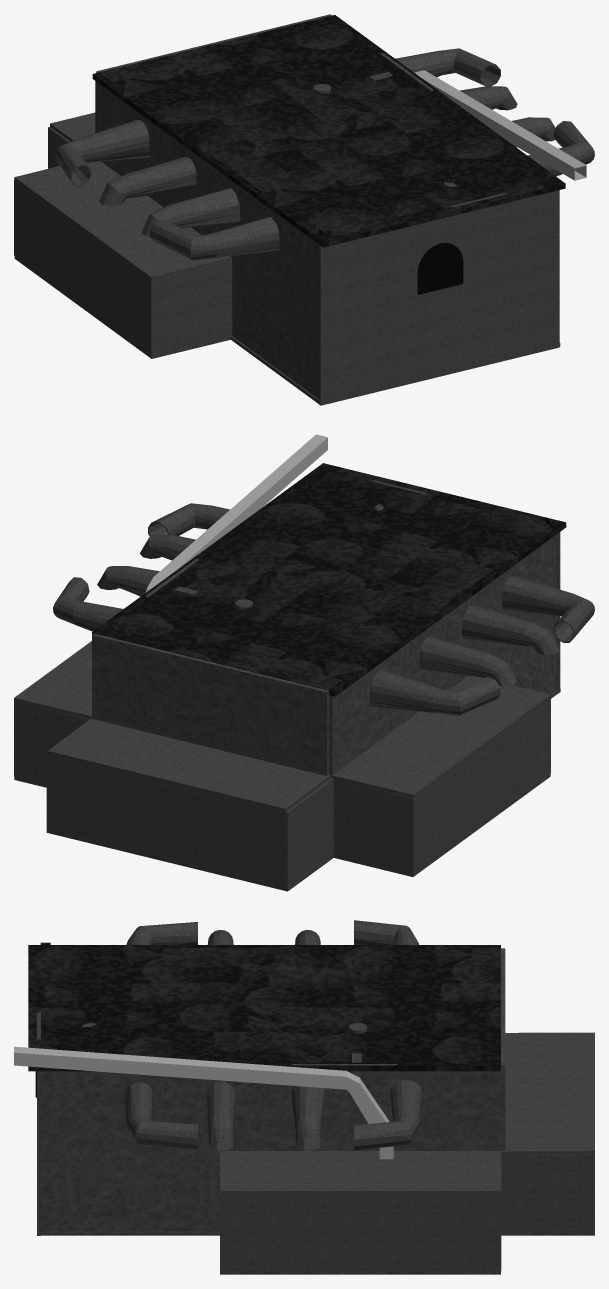
The model's file is Hall of the Mountain King.glb.
The picture shows the model from 3 angles, top to bottom: view 1: azimuth 30°, elevation 25°; view 2: azimuth 150°, elevation 25°; view 3: azimuth 270°, elevation 25°; orthographic projection. The views are drawn at different scales.
Parts seen in each view (by area): view 1: Roof, Ext Wall, Gobby Tunnels, Ext Wall.001, Ext Walls.001, Roofs, OA Duct, ToIsland.001, Floor, Ext Wall.003; view 2: Roof, Roofs, Ext Walls.002, Ext Wall.003, Gobby Tunnels, Ext Walls.001, Ext Wall.001, OA Duct, Ext Walls, Floor; view 3: Roof, Ext Wall.002, Roofs, Ext Walls, Gobby Tunnels, OA Duct, Ext Walls.002, Floor, Ext Wall.003, Ext Wall.
Part boxes in pixels (x1,y1,x2,y2): Roof: (92, 15, 565, 247); Ext Wall: (319, 190, 559, 405); Gobby Tunnels: (55, 48, 594, 260); Ext Wall.001: (95, 81, 318, 399); Ext Walls.001: (14, 180, 232, 355); Roofs: (14, 112, 231, 280); OA Duct: (414, 70, 586, 180); ToIsland.001: (417, 243, 463, 294); Floor: (14, 256, 560, 404); Ext Wall.003: (96, 14, 331, 72); Roof: (92, 463, 566, 696); Roofs: (14, 641, 551, 812); Ext Walls.002: (46, 753, 333, 887); Ext Wall.003: (92, 633, 329, 775); Gobby Tunnels: (53, 503, 594, 715); Ext Walls.001: (333, 698, 550, 873); Ext Wall.001: (329, 534, 557, 778); OA Duct: (145, 434, 327, 592); Ext Walls: (14, 701, 89, 784); Floor: (14, 688, 560, 891); Roof: (28, 945, 500, 1071); Ext Wall.002: (41, 1064, 489, 1231); Roofs: (219, 1032, 594, 1194); Ext Walls: (220, 1155, 501, 1271); Gobby Tunnels: (124, 920, 422, 1150); OA Duct: (14, 1046, 393, 1159); Ext Walls.002: (501, 1154, 594, 1232); Floor: (37, 1231, 594, 1274); Ext Wall.003: (489, 948, 505, 1151); Ext Wall: (37, 1012, 40, 1235).
Size of what is drawn, in the model's own units: 82.43 by 37.33 by 94.06.
119 materials, 8 textured.
